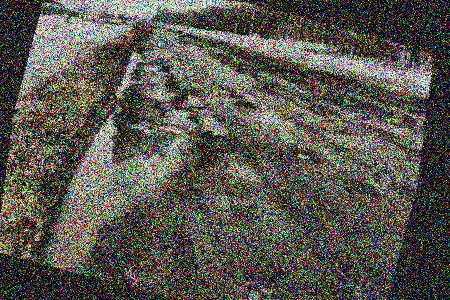pothole: (155, 117, 187, 139), (234, 95, 263, 113), (293, 145, 318, 165), (189, 102, 203, 113)
